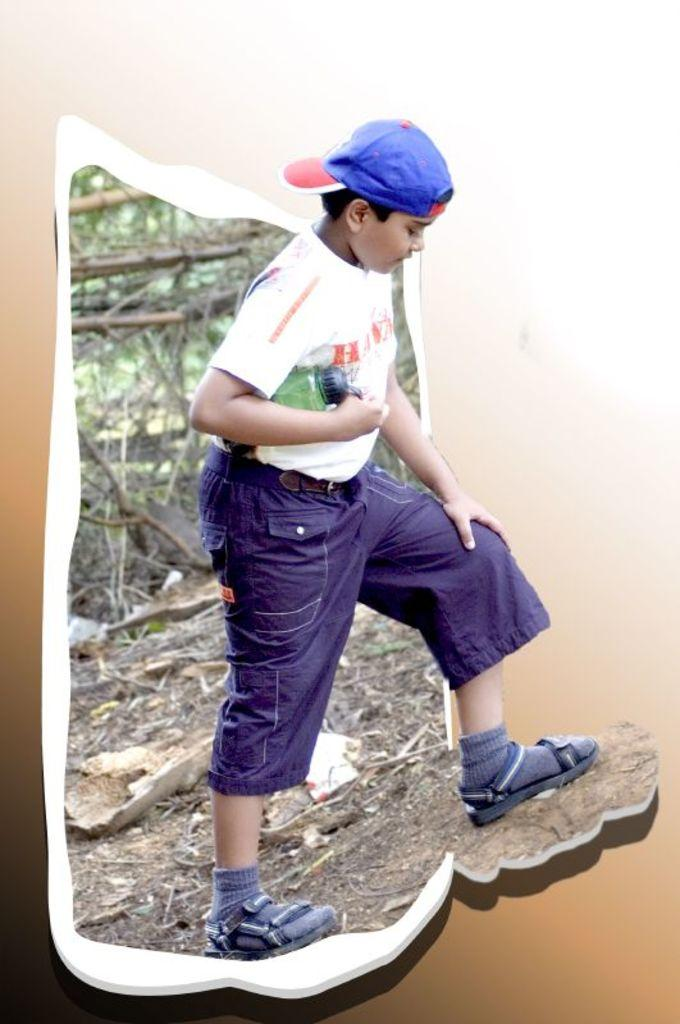Hat: (280, 114, 455, 214)
